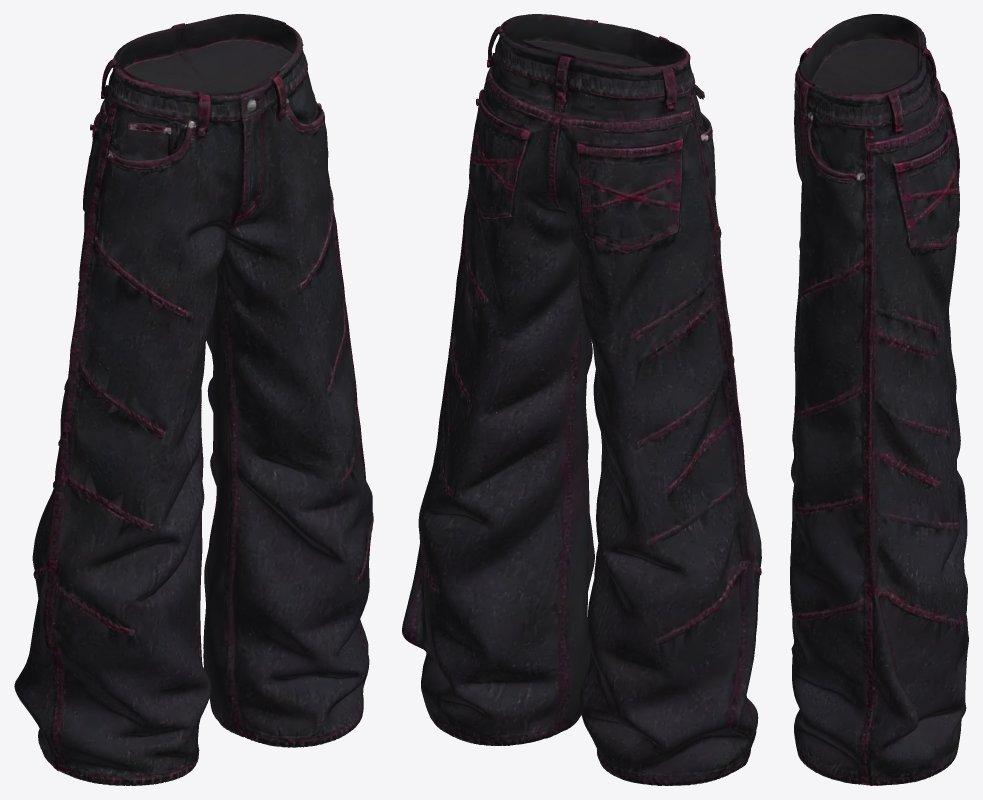
The model's file is jeans-redline.glb.
3 views of the same model, side by side, from view 1: azimuth 30°, elevation 25°; view 2: azimuth 150°, elevation 25°; view 3: azimuth 270°, elevation 25° (orthographic). The views are drawn at different scales.
Visible parts, largest first — view 1: tripo_node_019fffe1-bd2e-4d98-b0b8-af8633c88b86; view 2: tripo_node_019fffe1-bd2e-4d98-b0b8-af8633c88b86; view 3: tripo_node_019fffe1-bd2e-4d98-b0b8-af8633c88b86.
Boxes of the visible parts, bbox=[...] form: tripo_node_019fffe1-bd2e-4d98-b0b8-af8633c88b86: bbox=[14, 14, 373, 785]; tripo_node_019fffe1-bd2e-4d98-b0b8-af8633c88b86: bbox=[402, 14, 761, 785]; tripo_node_019fffe1-bd2e-4d98-b0b8-af8633c88b86: bbox=[790, 14, 968, 785].
Size of the model in its own units: 0.5615 by 1.1 by 0.2669.
Materials: 1 (1 with a texture image).
